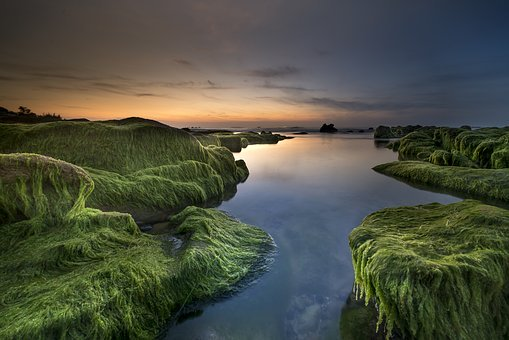lake: (215, 128, 421, 336)
mountain: (2, 116, 257, 336)
sky: (4, 3, 504, 126)
